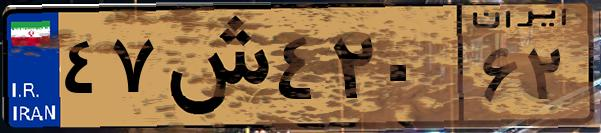0: (385, 28, 445, 110)
2: (330, 28, 385, 110), (525, 38, 570, 115)
4: (270, 28, 330, 110), (57, 26, 110, 100)
6: (475, 38, 525, 113)
7: (110, 28, 158, 98)
ش: (158, 12, 270, 120)
